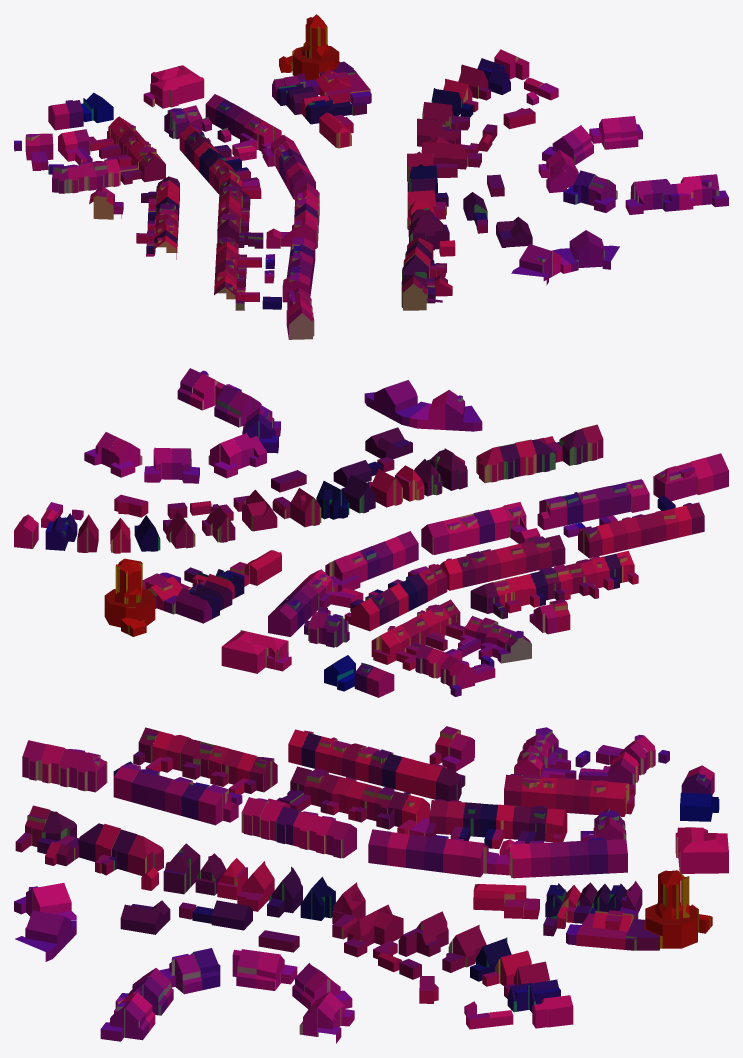
Rendered from buildings_12_7.glb.
The picture shows the model from 3 angles, top to bottom: view 1: azimuth 30°, elevation 25°; view 2: azimuth 150°, elevation 25°; view 3: azimuth 270°, elevation 25°; orthographic projection. The views are drawn at different scales.
Visible parts, largest first — view 1: buildings_12_7; view 2: buildings_12_7; view 3: buildings_12_7.
Boxes of the visible parts, box(x1,y1,x2,y2) form: buildings_12_7: box(14, 14, 728, 339); buildings_12_7: box(14, 368, 728, 697); buildings_12_7: box(14, 726, 728, 1043).
Bounding box in the file's own units: 205 × 22.2 × 210.
